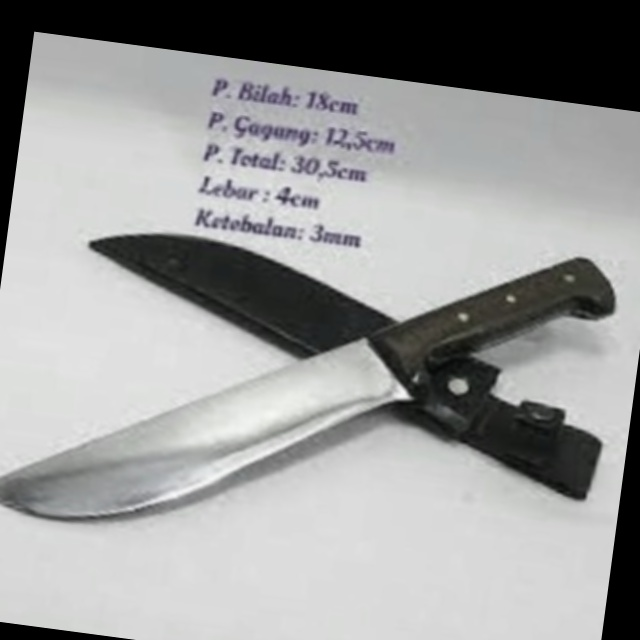Sharp-Object: (0, 185, 622, 590)
